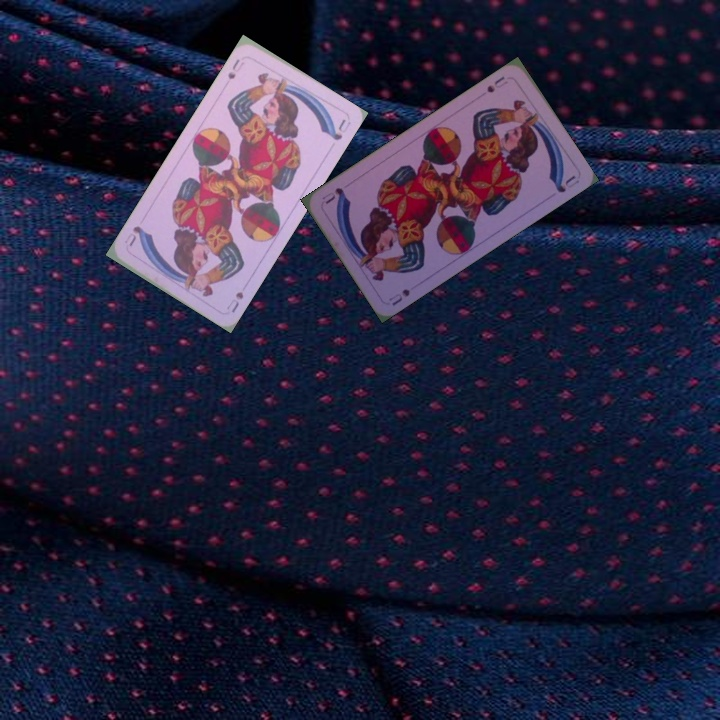SU: (222, 287, 246, 315), (385, 284, 413, 308), (483, 72, 510, 95), (224, 55, 242, 82)
